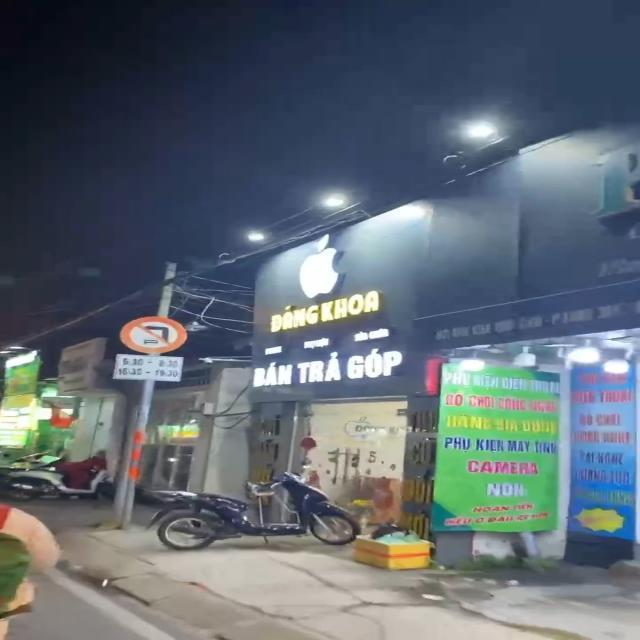123a-cam-re-trai: (119, 315, 188, 354)
